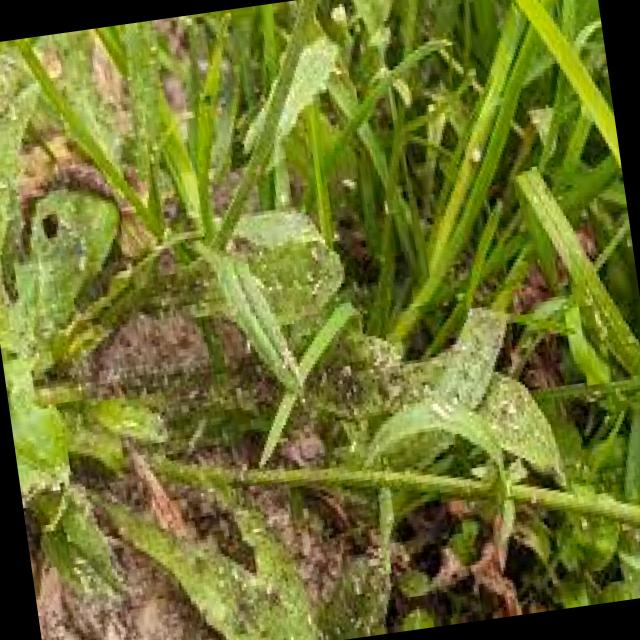aphid: (458, 134, 487, 174), (332, 164, 363, 200), (66, 242, 92, 278), (308, 359, 332, 394), (568, 508, 594, 538), (229, 566, 253, 598), (104, 514, 130, 543), (140, 129, 166, 158), (138, 46, 162, 75), (564, 446, 587, 476), (141, 29, 164, 58), (235, 326, 254, 361), (205, 556, 230, 582), (130, 374, 150, 406), (152, 361, 174, 390), (257, 573, 278, 602), (166, 456, 189, 482), (520, 486, 540, 515), (573, 388, 598, 411), (284, 266, 304, 294), (522, 183, 542, 208), (201, 474, 219, 500), (248, 155, 266, 180), (140, 144, 156, 172), (582, 380, 602, 400)
